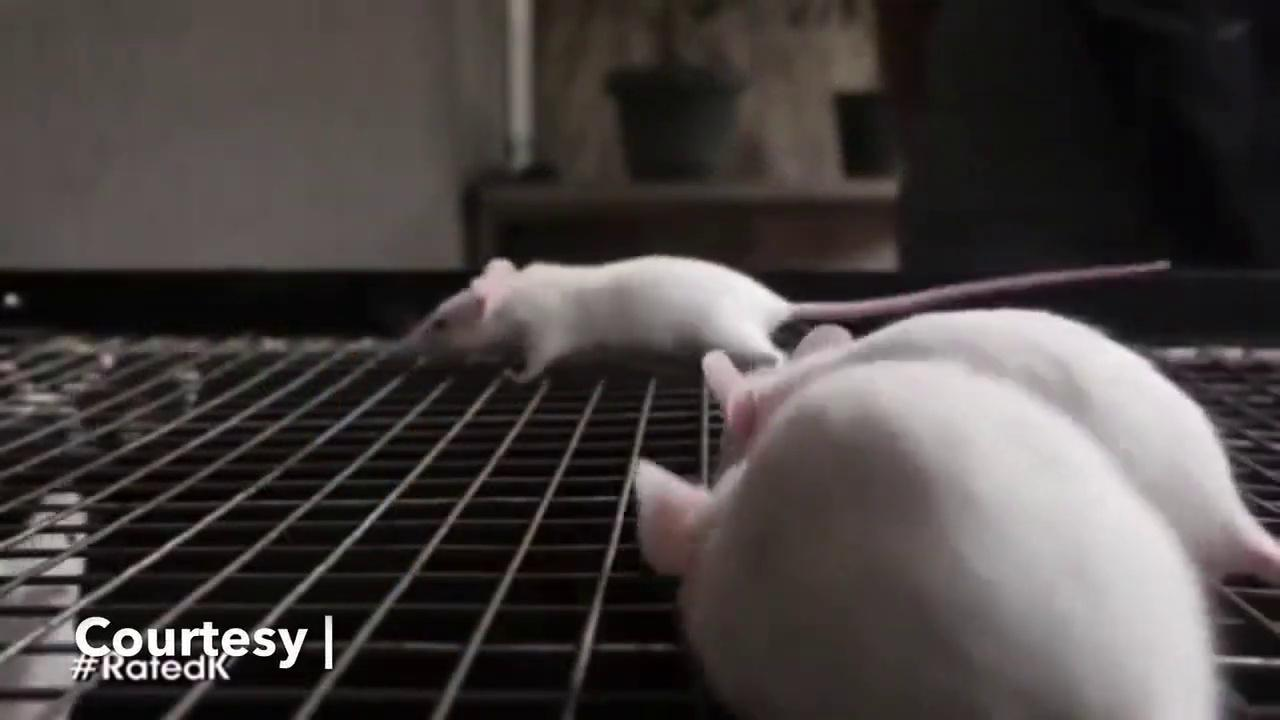rat: (633, 361, 1215, 720), (390, 254, 1169, 378)
